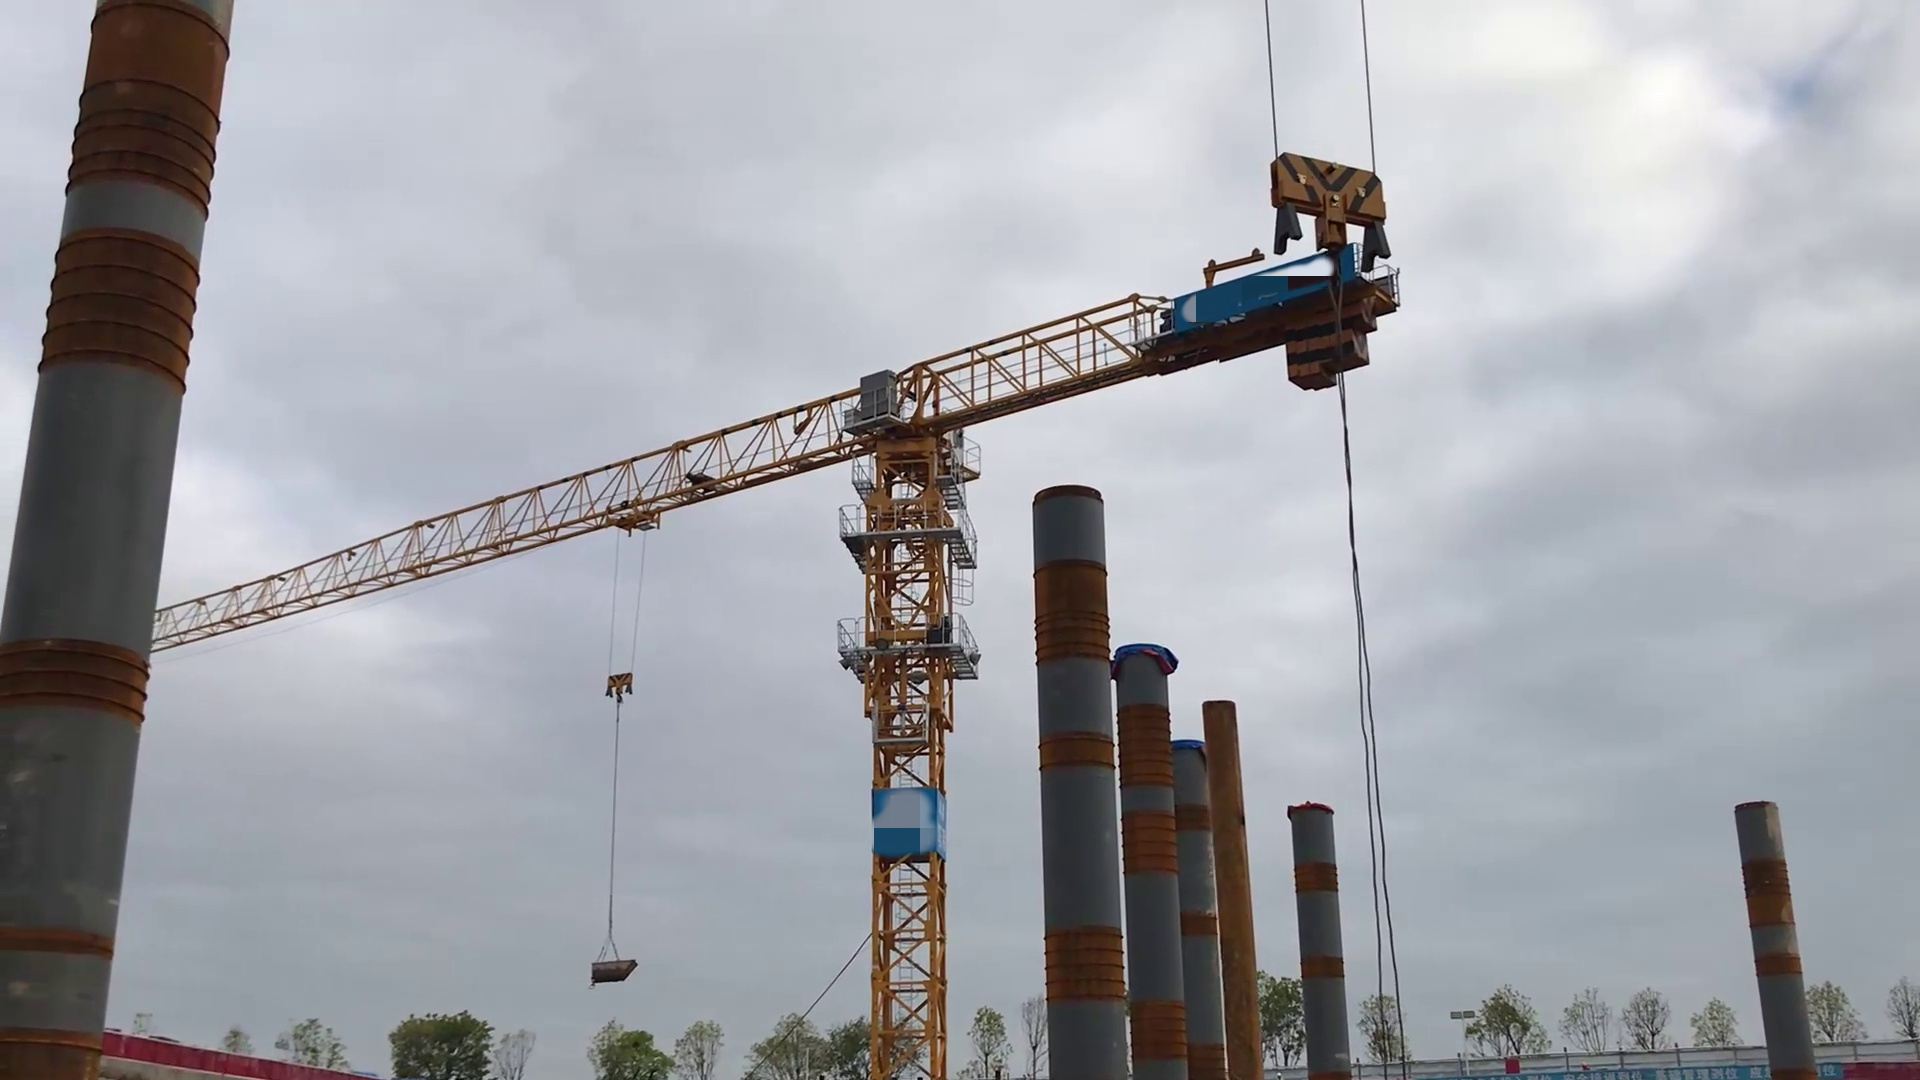hook: (1259, 146, 1396, 276), (603, 667, 637, 707)
hopper: (592, 959, 638, 982)
slogan: (1519, 1065, 1842, 1080)
